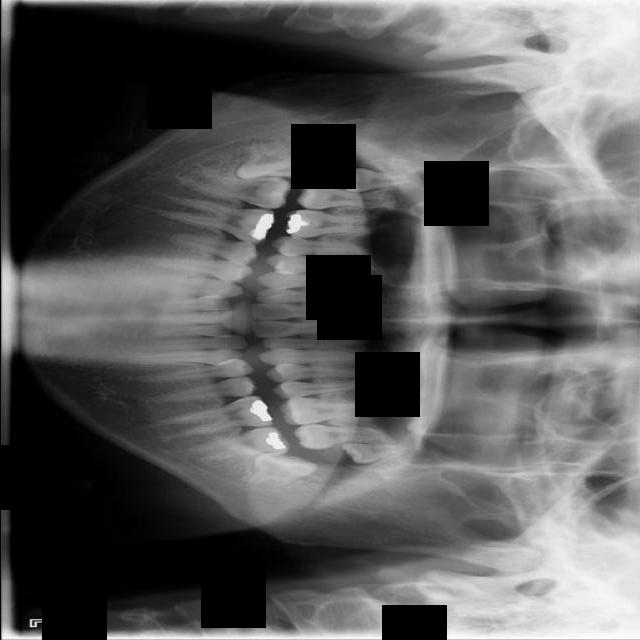3M ESPE Implant: (342, 163, 413, 193)
52: (228, 197, 279, 251), (243, 421, 291, 462), (229, 392, 273, 435), (283, 208, 331, 238)
73: (30, 596, 54, 608)
BioHorizons Implant: (292, 423, 390, 453)
BioLife Implant: (340, 442, 398, 464)
Biomet 3i Implant: (244, 448, 318, 496)
Blue Sky Bio Implant: (191, 424, 290, 462)
Caries: (295, 178, 395, 211)
Implant: (187, 168, 293, 211)
Keystone Dental Implant: (234, 137, 303, 184)
